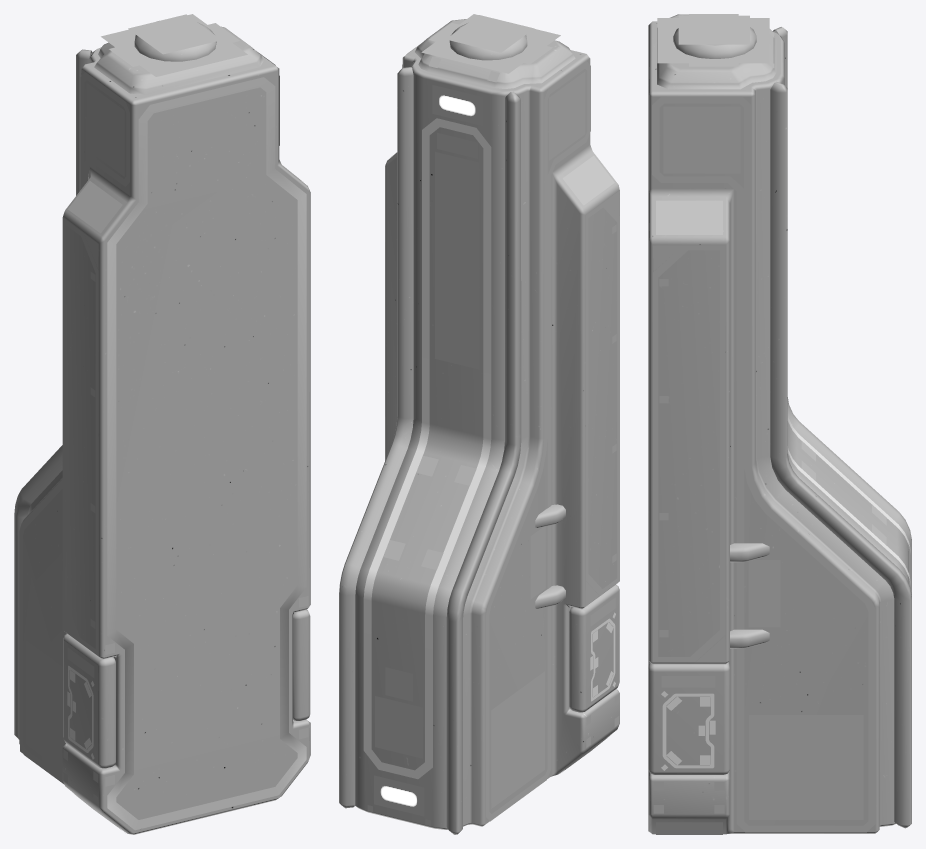
The model's file is SM_Pillar_1_Merged.fbx.
3 renders of one model, left to right at view 1: azimuth 30°, elevation 25°; view 2: azimuth 150°, elevation 25°; view 3: azimuth 270°, elevation 25°, orthographic. The views are drawn at different scales.
Visible parts, largest first — view 1: SM_Pillar_1_Merged_LOD0; view 2: SM_Pillar_1_Merged_LOD0; view 3: SM_Pillar_1_Merged_LOD0.
Boxes of the visible parts, <box> form: SM_Pillar_1_Merged_LOD0: <box>14,14,310,834</box>; SM_Pillar_1_Merged_LOD0: <box>339,14,619,834</box>; SM_Pillar_1_Merged_LOD0: <box>648,14,911,834</box>.
Bounding box in the file's own units: 121 × 129 × 414.
